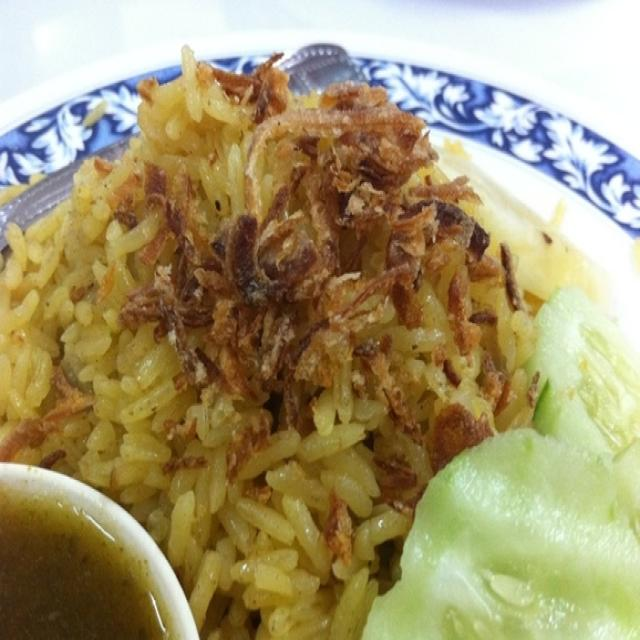米饭主食: (8, 10, 626, 627)
